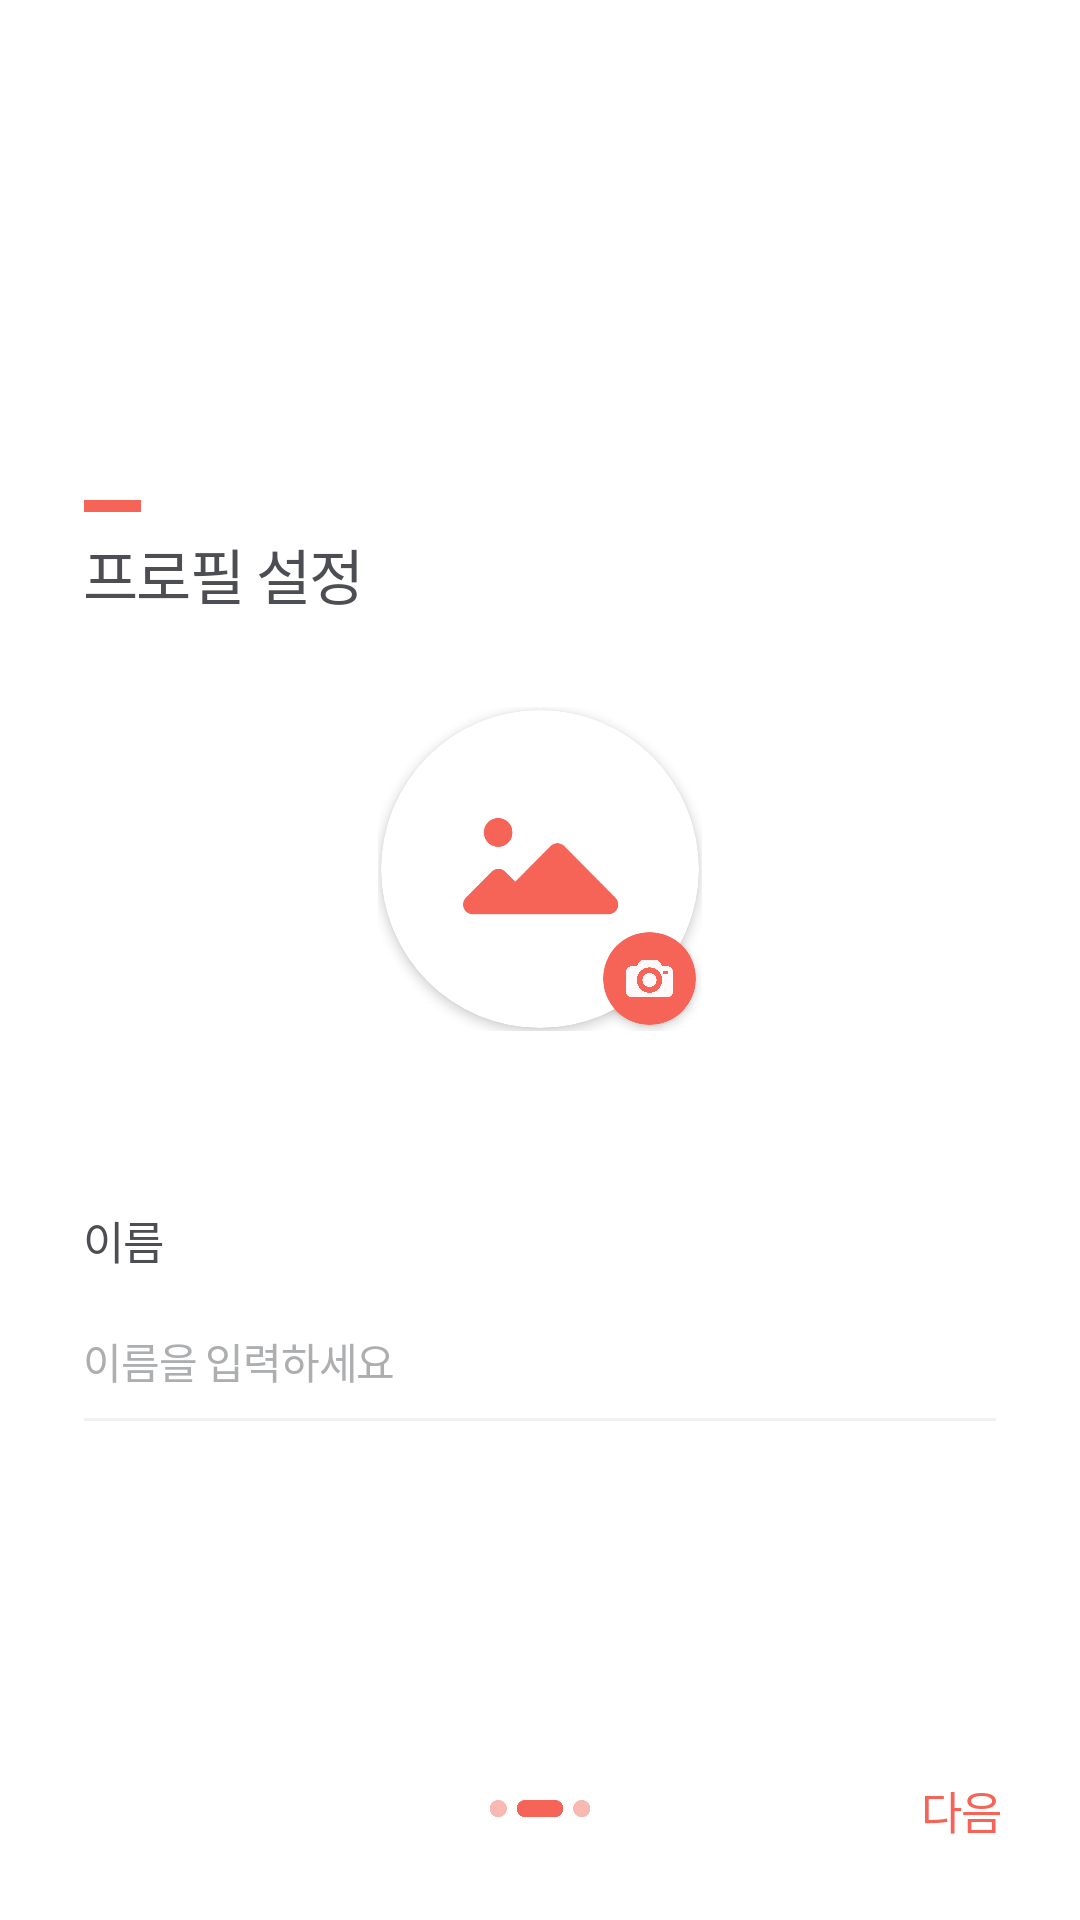

Named icons in this screenshot (1080×1920) and their bounding boxes, (x1, y1, x2, y2):
camera: (626, 960, 673, 997)
